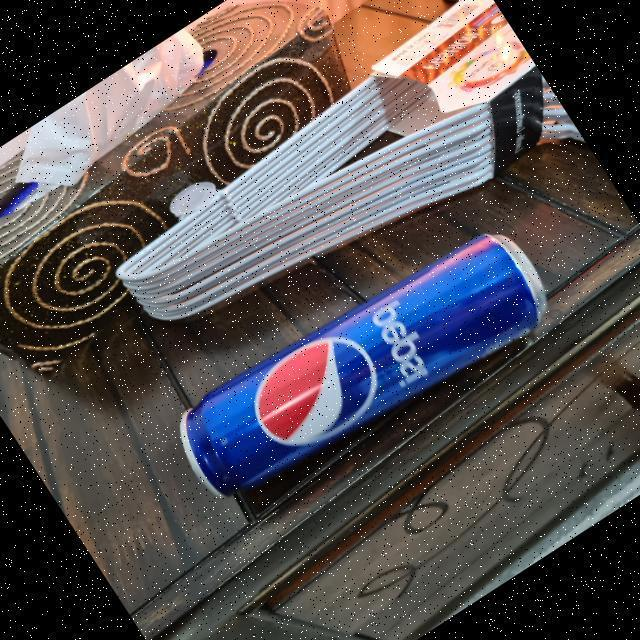can: (151, 202, 568, 538)
